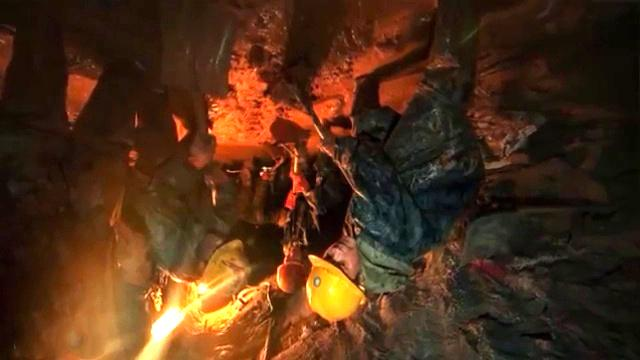helmet: (305, 235, 367, 322), (276, 247, 305, 294)
